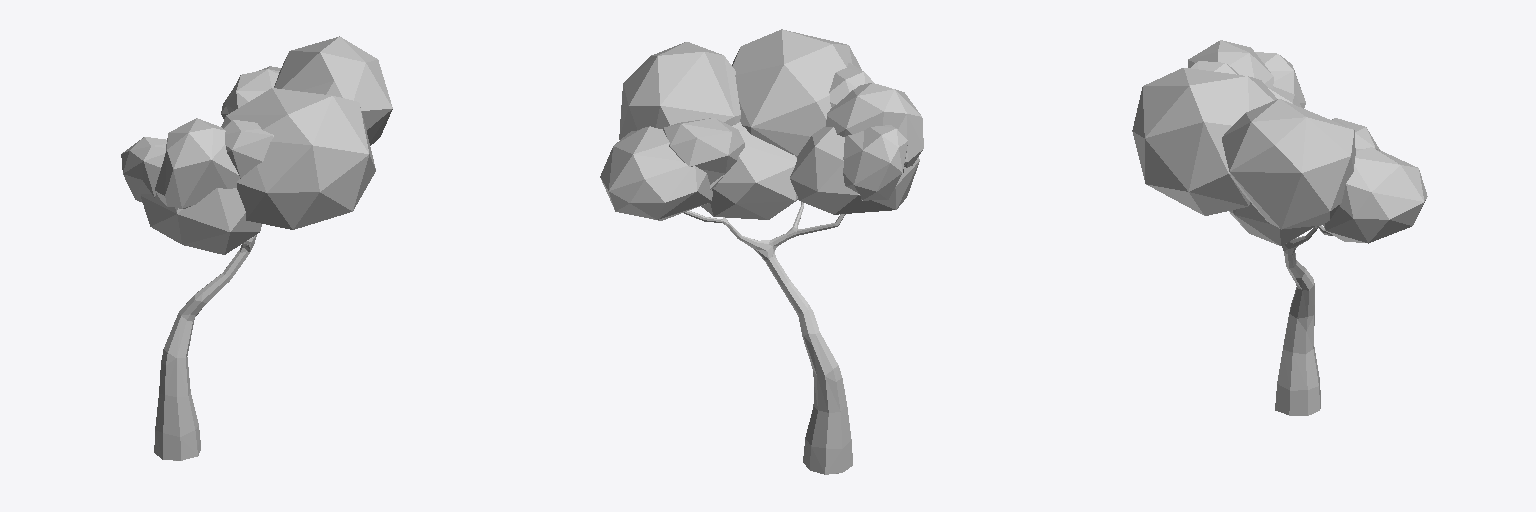
File: Arvore 2.obj
3 renders of one model, left to right at view 1: azimuth 30°, elevation 25°; view 2: azimuth 150°, elevation 25°; view 3: azimuth 270°, elevation 25°, orthographic.
Visible parts, largest first — view 1: Cube_Cube.001; view 2: Cube_Cube.001; view 3: Cube_Cube.001.
Boxes of the visible parts, <box> form: Cube_Cube.001: <box>121,36,392,460</box>; Cube_Cube.001: <box>600,29,923,474</box>; Cube_Cube.001: <box>1132,40,1427,415</box>.
Bounding box in the file's own units: 14.75 × 19.83 × 14.08.